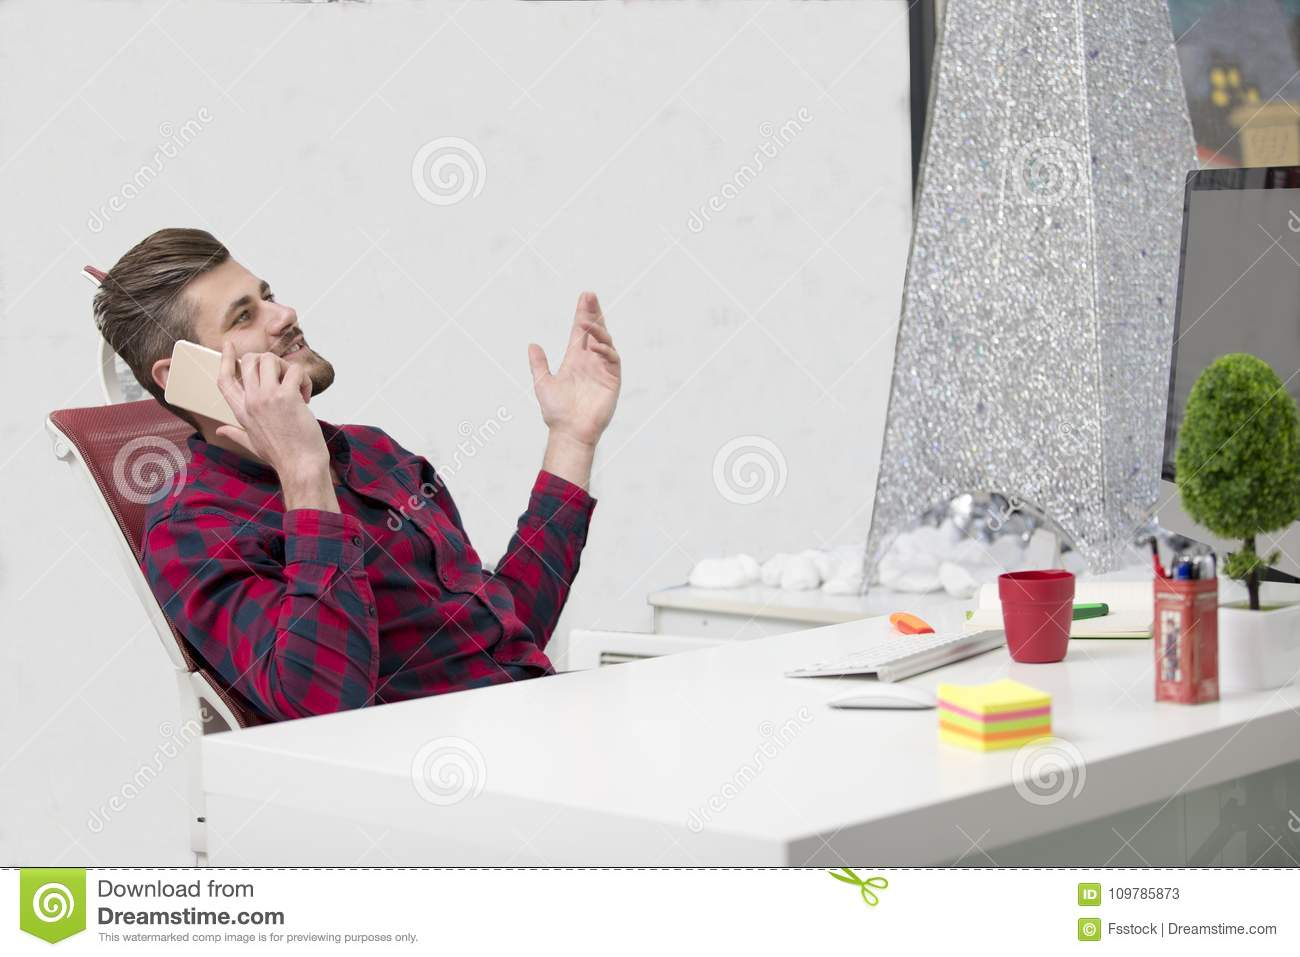phone: (166, 341, 287, 429)
talk: (164, 280, 338, 493)
